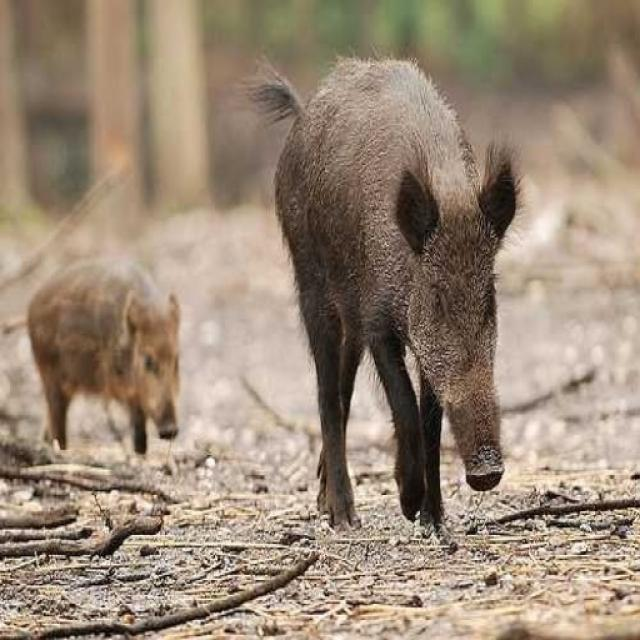pig: (245, 12, 559, 562), (15, 206, 220, 474)
